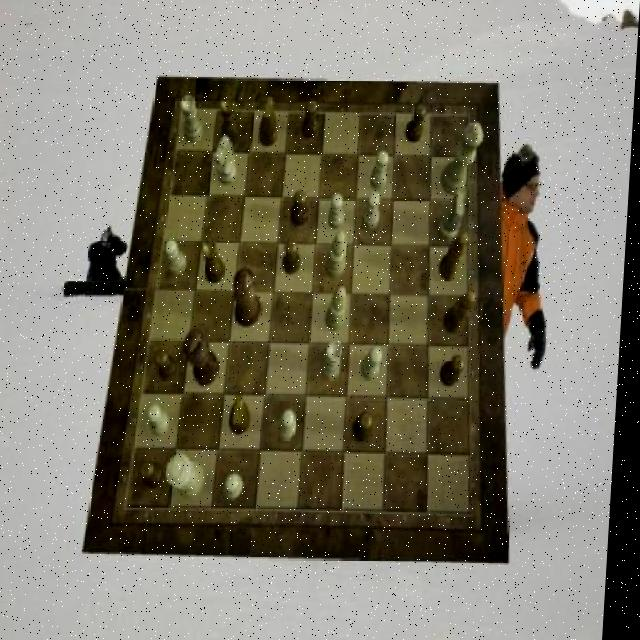bishop: (442, 232, 472, 282), (446, 290, 480, 334)
black-bishop: (187, 329, 227, 387)
black-king: (260, 97, 281, 146), (233, 396, 258, 436)
black-knight: (407, 105, 429, 143), (158, 349, 183, 382), (445, 355, 469, 388), (303, 100, 321, 140), (145, 462, 171, 489), (286, 240, 305, 276), (294, 190, 313, 226), (358, 411, 379, 442)
black-pawn: (234, 269, 266, 328)
black-queen: (220, 97, 244, 145), (204, 240, 230, 284)
black-rook: (328, 232, 351, 280), (331, 288, 353, 332)
white-bishop: (171, 454, 213, 498)
white-king: (214, 136, 241, 187), (441, 192, 468, 242)
white-knight: (167, 240, 192, 276), (152, 405, 177, 437), (371, 151, 391, 189), (364, 348, 386, 382), (365, 192, 384, 230), (331, 194, 349, 230), (283, 409, 302, 442), (229, 474, 250, 499)
white-pawn: (441, 121, 486, 196)
white-queen: (181, 97, 208, 145), (324, 340, 347, 380)
